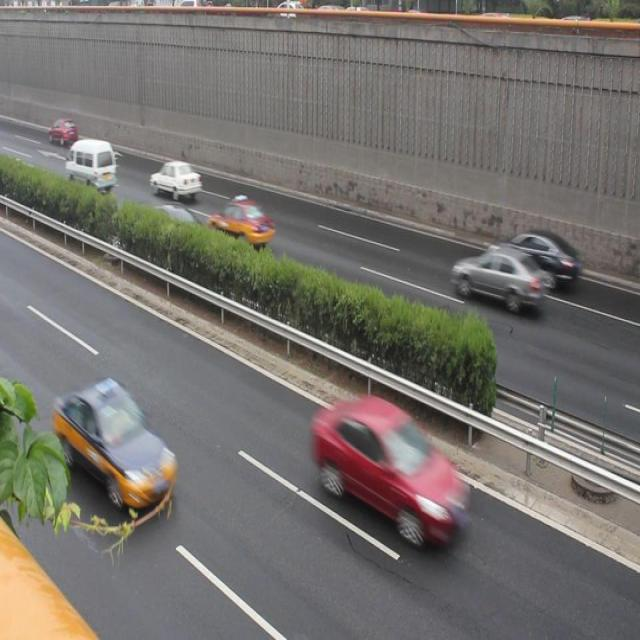car: (306, 393, 470, 553), (51, 378, 176, 506), (448, 247, 540, 312), (500, 222, 577, 288), (207, 194, 271, 254), (145, 200, 201, 250), (146, 157, 202, 199), (46, 114, 78, 146)
truck: (64, 136, 116, 191)
